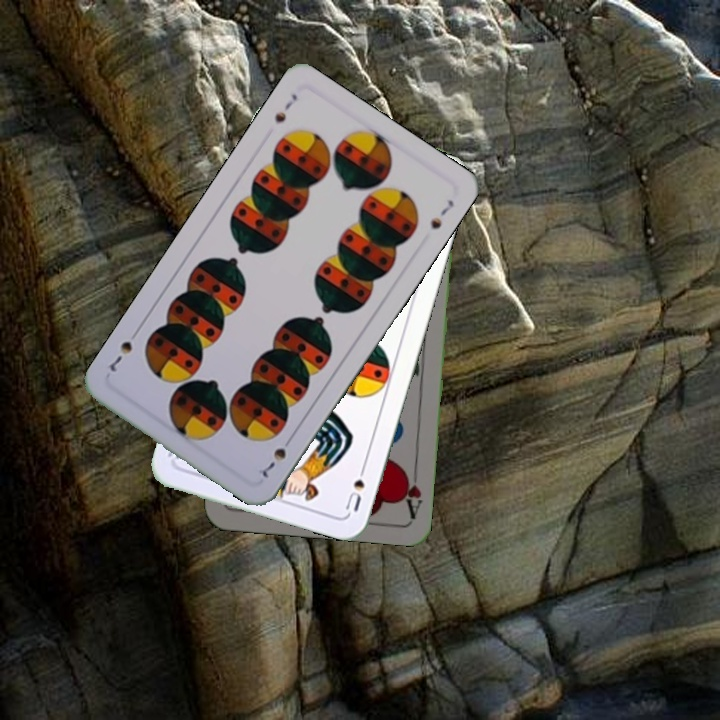HA: (398, 461, 425, 520)
S7: (258, 431, 296, 480), (270, 89, 300, 126)
SU: (341, 458, 369, 514)
